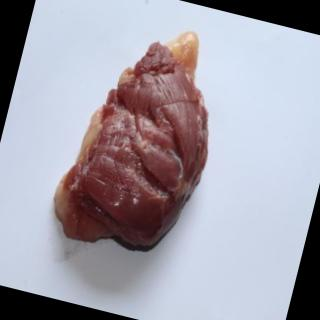Daging Sapi: (47, 13, 238, 265)
